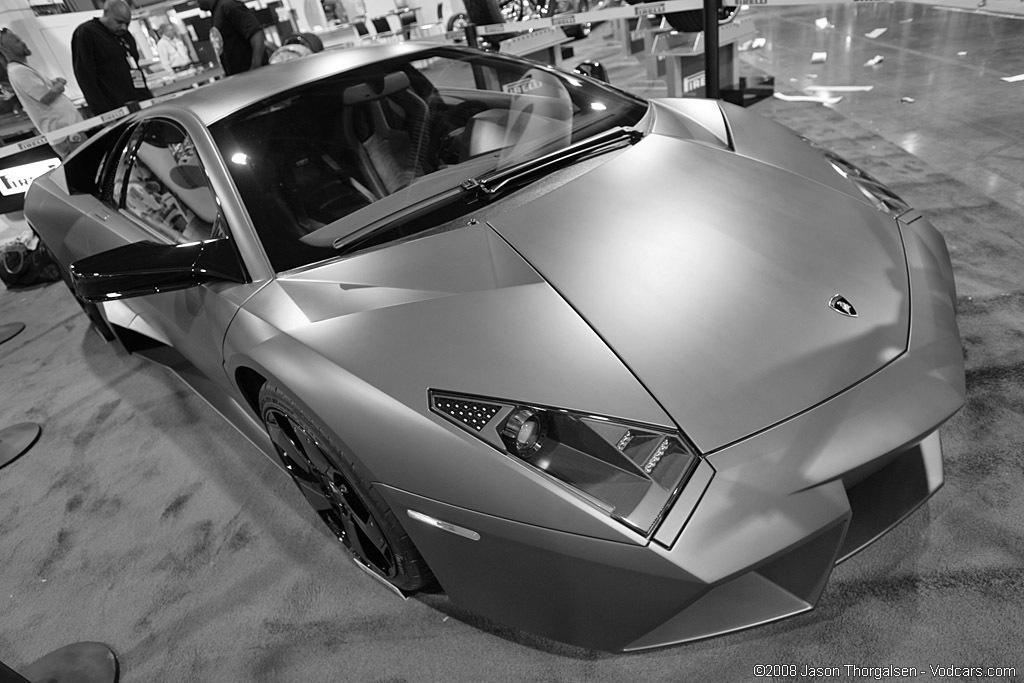car: (28, 44, 969, 655)
